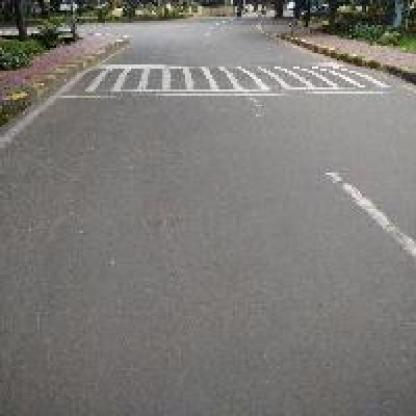Speed Bump: (48, 56, 414, 100)
